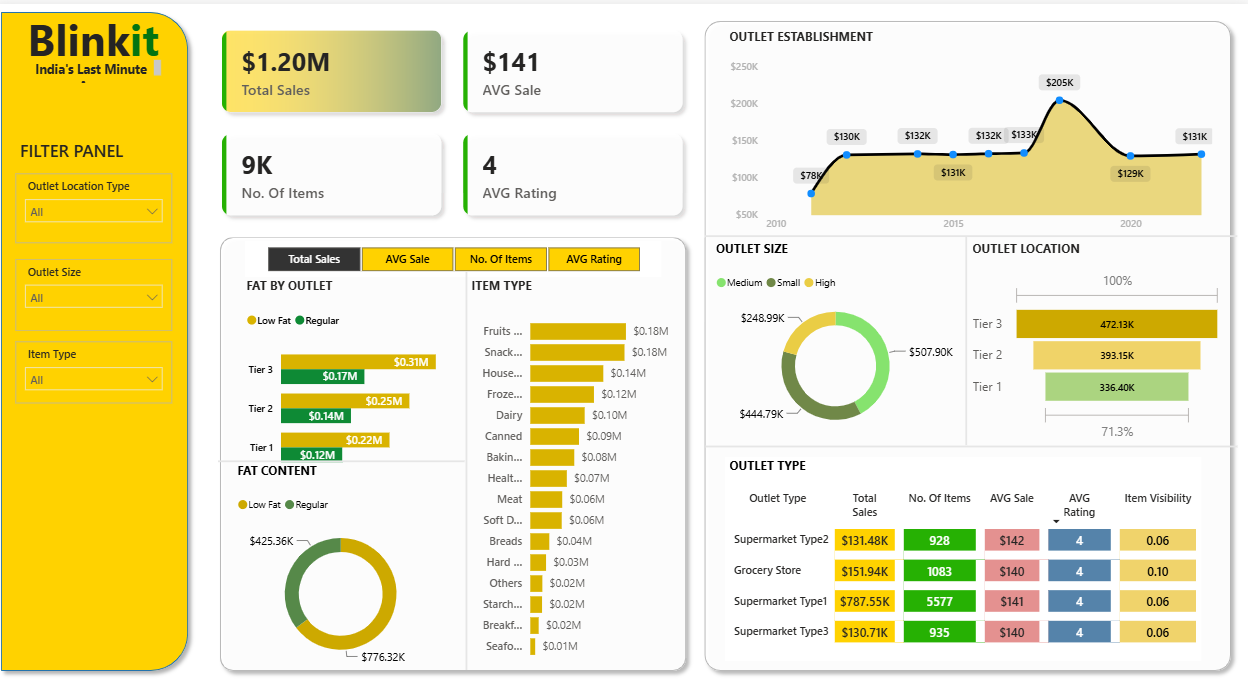

Layout of this report page (visuals, bound fields, positions):
{"tool":"powerbi","page":{"name":"Page 1","canvas":[1400,800],"ordinal":0},"visuals":[{"type":"shape","box":[0,0,225.7,750],"z":0},{"type":"textbox","box":[32.9,0,160,75.7],"z":1000},{"type":"textbox","box":[32.9,57.1,158.6,35.7],"z":2000},{"type":"shape","box":[242.9,250,535.7,500],"z":3000},{"type":"donutChart","title":"FAT CONTENT","fields":{"Y":["BlinkIT Grocery Data.Total Sales"],"Category":["BlinkIT Grocery Data.Item Fat Content"]},"box":[267.1,508.6,238.6,238.6],"z":4000},{"type":"slicer","fields":{"Values":["Matrics.Matrics"]},"box":[280,262.9,462.9,40],"z":5000},{"type":"cardVisual","fields":{"Data":["BlinkIT Grocery Data.Total Sales"]},"box":[684.3,130,131.4,63],"z":6000},{"type":"clusteredBarChart","title":"FAT BY OUTLET","fields":{"Y":["BlinkIT Grocery Data.Total Sales"],"Category":["BlinkIT Grocery Data.Outlet Location Type"],"Series":["BlinkIT Grocery Data.Item Fat Content"]},"box":[277.1,302.9,220,230],"z":7000},{"type":"shape","box":[250,501.4,274.3,12.9],"z":8000},{"type":"shape","box":[520,297.1,12.1,443.6],"z":9000},{"type":"barChart","title":"ITEM TYPE","fields":{"Y":["BlinkIT Grocery Data.Total Sales"],"Category":["BlinkIT Grocery Data.Item Type"]},"box":[527.1,302.9,228.9,434.4],"z":10000},{"type":"shape","box":[781.7,10,602.9,740],"z":11000},{"type":"lineChart","title":"OUTLET ESTABLISHMENT","fields":{"Y":["BlinkIT Grocery Data.Total Sales"],"Category":["BlinkIT Grocery Data.Outlet Establishment Year"]},"box":[813.3,26.7,546,235],"z":12000},{"type":"shape","box":[790,250,592.5,15.8],"z":13000},{"type":"donutChart","title":"OUTLET SIZE","fields":{"Y":["BlinkIT Grocery Data.Total Sales"],"Category":["BlinkIT Grocery Data.Outlet Size"]},"box":[799.1,261.8,275,225],"z":14000},{"type":"shape","box":[1074.5,258.2,12.7,231.8],"z":15000},{"type":"funnel","title":"OUTLET LOCATION","fields":{"Y":["Sum(BlinkIT Grocery Data.Sales)"],"Category":["BlinkIT Grocery Data.Outlet Location Type"]},"box":[1082.7,261.8,286.7,228.3],"z":16000},{"type":"shape","box":[791.8,483.6,591.1,16.7],"z":17000},{"type":"pivotTable","title":"OUTLET TYPE","fields":{"Rows":["BlinkIT Grocery Data.Outlet Type"],"Values":["BlinkIT Grocery Data.Total Sales","BlinkIT Grocery Data.No. Of Items","BlinkIT Grocery Data.AVG Sale","BlinkIT Grocery Data.AVG Rating","Avg(BlinkIT Grocery Data.Item Visibility)"]},"box":[813.6,503.6,529.1,226.4],"z":18000},{"type":"slicer","fields":{"Values":["BlinkIT Grocery Data.Outlet Location Type"]},"box":[25.7,188.6,174.3,77.1],"z":19000},{"type":"slicer","fields":{"Values":["BlinkIT Grocery Data.Outlet Size"]},"box":[25.7,282.9,174.3,80],"z":20000},{"type":"slicer","fields":{"Values":["BlinkIT Grocery Data.Item Type"]},"box":[25.7,374.3,174.3,68.6],"z":21000},{"type":"cardVisual","fields":{"Data":["BlinkIT Grocery Data.Total Sales","BlinkIT Grocery Data.AVG Sale","BlinkIT Grocery Data.No. Of Items","BlinkIT Grocery Data.AVG Rating"]},"box":[225.7,0,570,265.7],"z":22000},{"type":"textbox","box":[25.7,144.3,200,58.6],"z":23000}]}

Visuals, with their boxes in screenshot pixels (x1, y1, x2, y2), scaled from the page's 1400x800 canvas onto the 1248x697 screenshot:
shape: box=[0, 0, 201, 653]
textbox: box=[29, 0, 172, 66]
textbox: box=[29, 50, 171, 81]
shape: box=[217, 218, 694, 653]
"FAT CONTENT" donutChart: box=[238, 443, 451, 651]
slicer - Matrics.Matrics: box=[250, 229, 662, 264]
cardVisual - BlinkIT Grocery Data.Total Sales: box=[610, 113, 727, 168]
"FAT BY OUTLET" clusteredBarChart: box=[247, 264, 443, 464]
shape: box=[223, 437, 467, 448]
shape: box=[464, 259, 474, 645]
"ITEM TYPE" barChart: box=[470, 264, 674, 642]
shape: box=[697, 9, 1234, 653]
"OUTLET ESTABLISHMENT" lineChart: box=[725, 23, 1212, 228]
shape: box=[704, 218, 1232, 232]
"OUTLET SIZE" donutChart: box=[712, 228, 957, 424]
shape: box=[958, 225, 969, 427]
"OUTLET LOCATION" funnel: box=[965, 228, 1221, 427]
shape: box=[706, 421, 1233, 436]
"OUTLET TYPE" pivotTable: box=[725, 439, 1197, 636]
slicer - BlinkIT Grocery Data.Outlet Location Type: box=[23, 164, 178, 231]
slicer - BlinkIT Grocery Data.Outlet Size: box=[23, 246, 178, 316]
slicer - BlinkIT Grocery Data.Item Type: box=[23, 326, 178, 386]
cardVisual - BlinkIT Grocery Data.Total Sales x BlinkIT Grocery Data.AVG Sale: box=[201, 0, 709, 231]
textbox: box=[23, 126, 201, 177]
